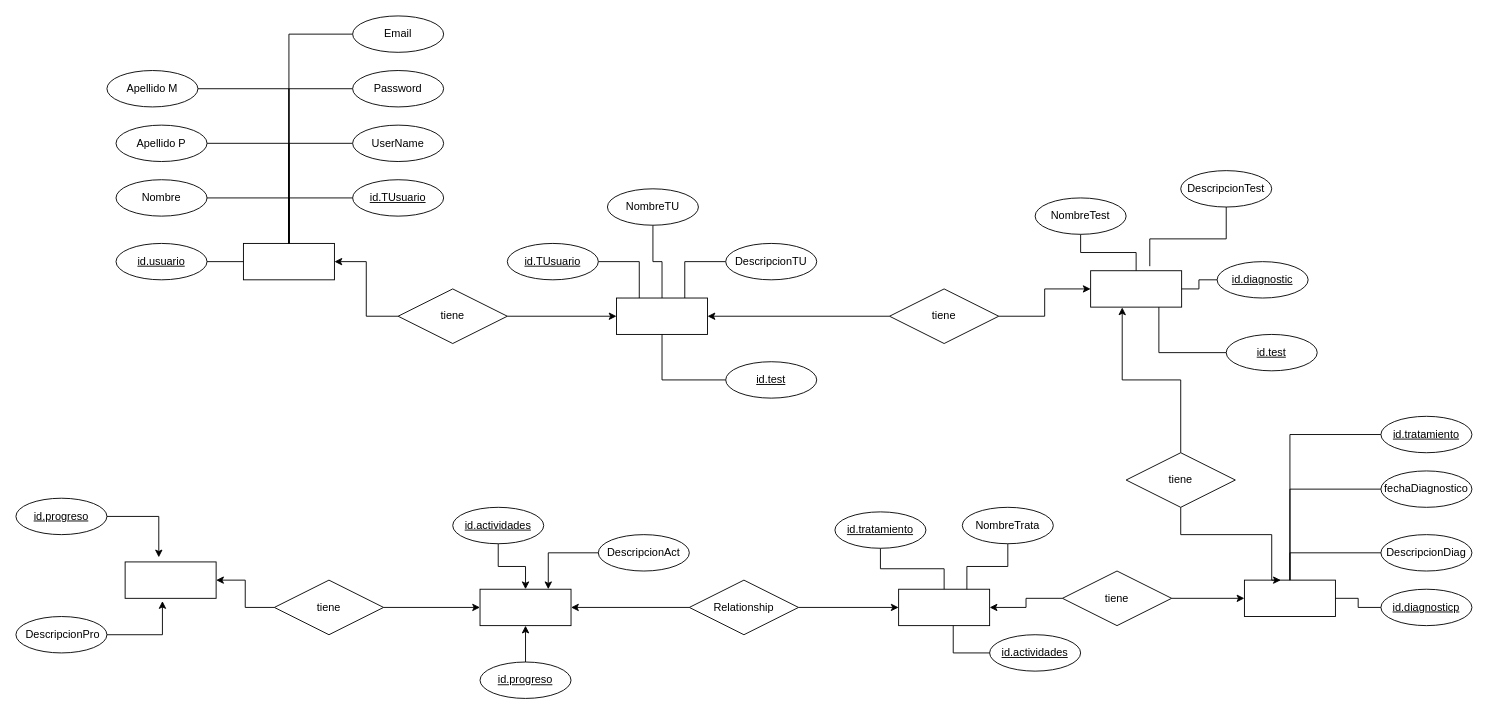
The diagram is 1488 pixels wide and 714 high, and some of its shapes have lost their labels. Here are the shapes that lost their labels. From the top down, the centre of each, then its label:
At (288,261): "usuario".
At (1136,288): "Test".
At (662,315): "Tipo User".
At (170,579): "Progreso".
At (1289,598): "Diagnostico".
At (525,607): "Actividades".
At (944,607): "tratamiento".
